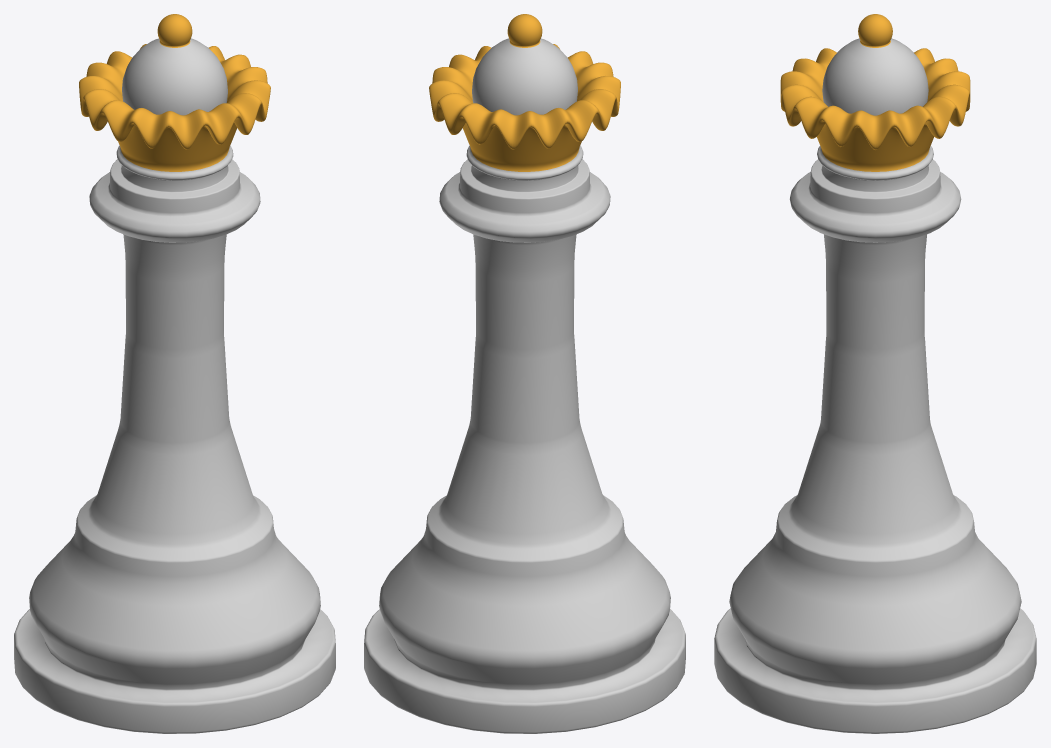
The model's file is vezir.glb.
3 renders of one model, left to right at view 1: azimuth 30°, elevation 25°; view 2: azimuth 150°, elevation 25°; view 3: azimuth 270°, elevation 25°, orthographic.
Visible parts, largest first — view 1: Circle.007; view 2: Circle.007; view 3: Circle.007.
Part boxes in pixels (left/top/right/bottom): Circle.007: left=14, top=14, right=335, bottom=733; Circle.007: left=364, top=14, right=685, bottom=733; Circle.007: left=714, top=14, right=1036, bottom=733.
Size of the model in its own units: 33.56 by 74.82 by 33.56.
